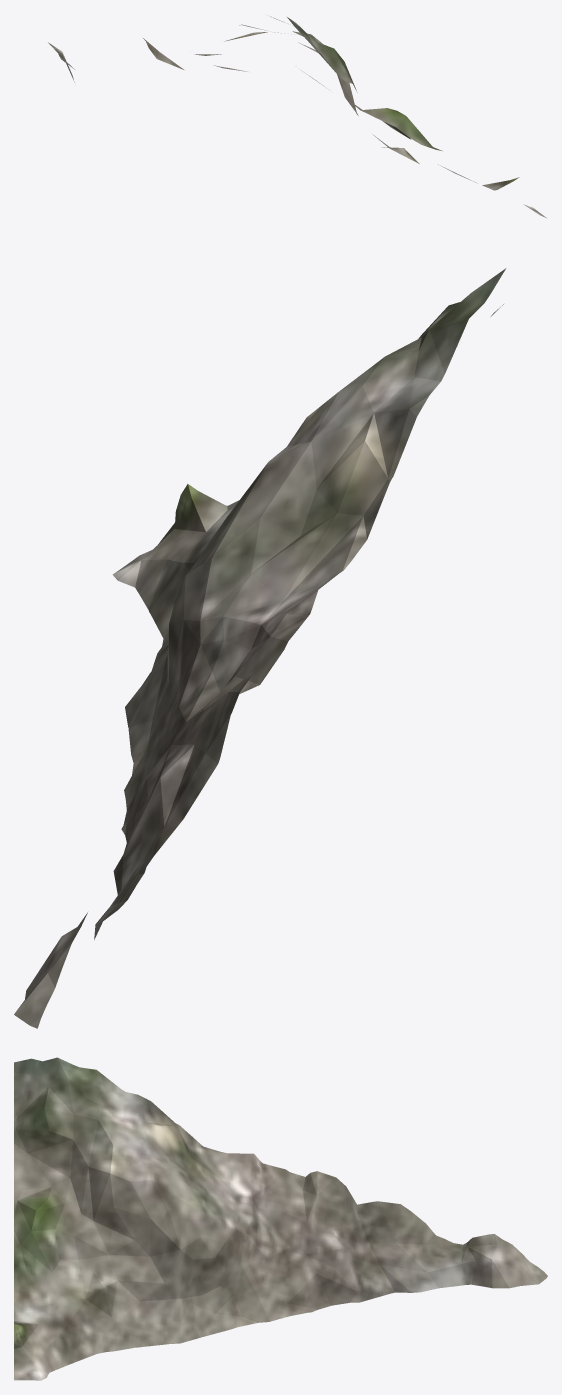
The picture shows the model from 3 angles, top to bottom: view 1: azimuth 30°, elevation 25°; view 2: azimuth 150°, elevation 25°; view 3: azimuth 270°, elevation 25°; orthographic projection. The views are drawn at different scales.
Bounding box in the file's own units: 0.9068 × 0.8847 × 1.96.
1 material, 1 textured.
